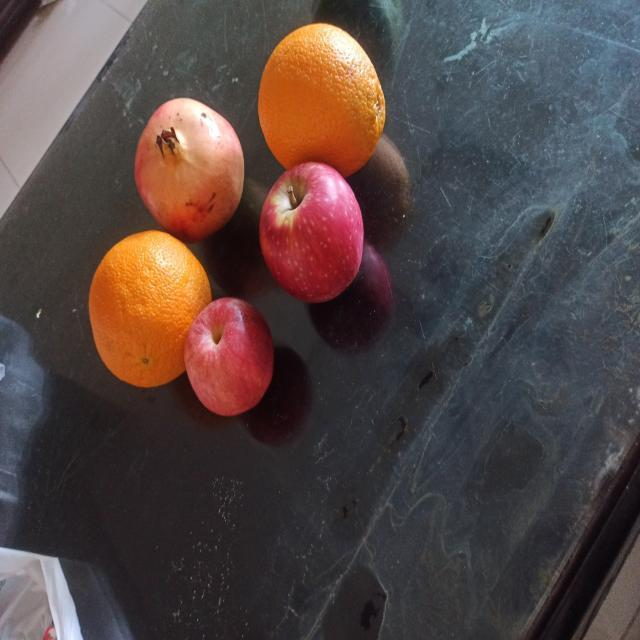apple: (260, 161, 364, 303), (184, 296, 274, 416)
